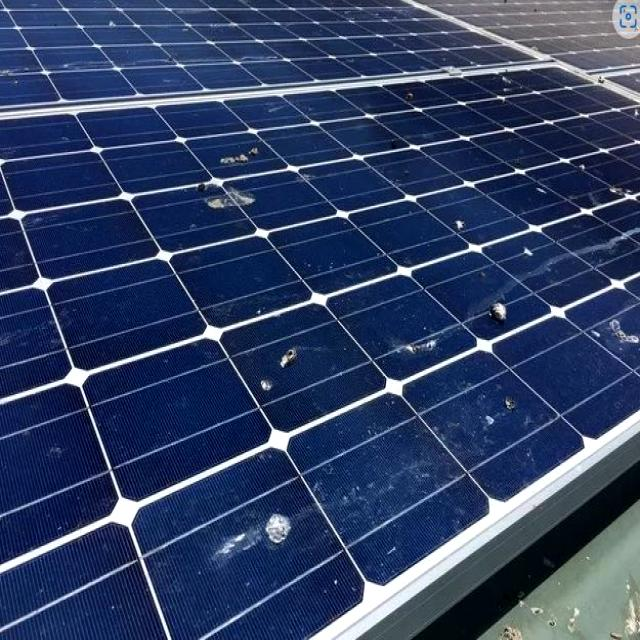bird: (479, 565, 639, 640), (206, 504, 314, 568), (237, 342, 331, 410), (368, 304, 454, 378), (462, 380, 545, 452), (462, 272, 538, 350), (566, 148, 640, 216), (576, 286, 640, 363), (388, 75, 428, 169), (194, 137, 274, 169), (192, 188, 276, 217), (491, 64, 534, 111), (507, 227, 555, 267), (446, 203, 491, 244)
